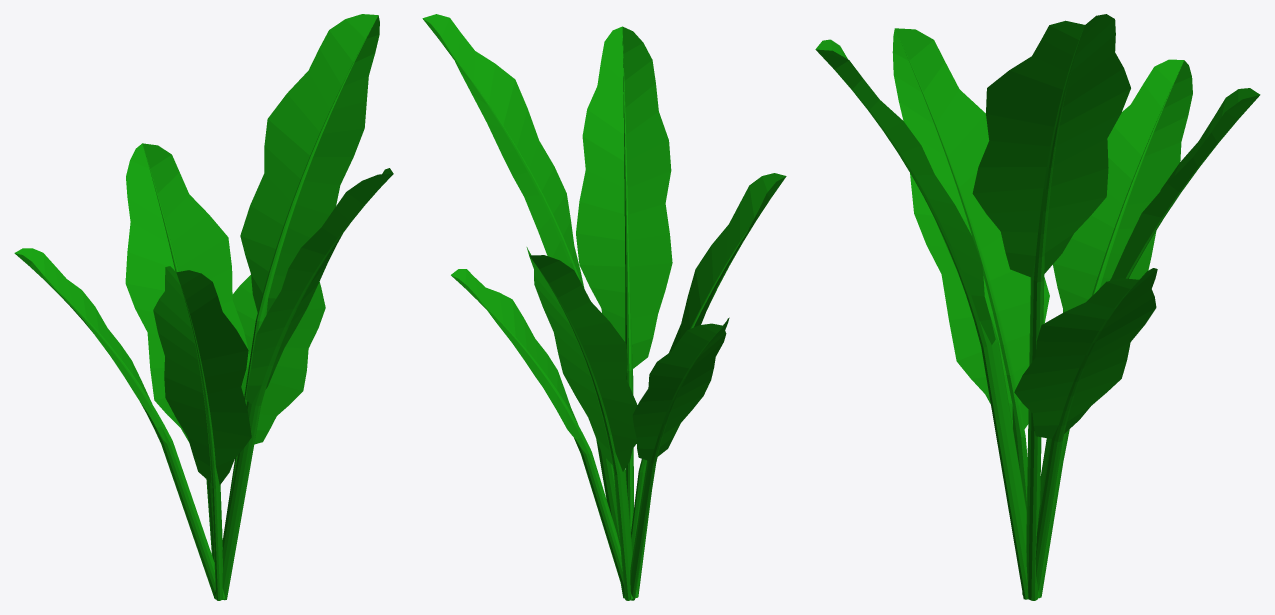
Rendered from Horseradish.fbx.
3 views of the same model, side by side, from view 1: azimuth 30°, elevation 25°; view 2: azimuth 150°, elevation 25°; view 3: azimuth 270°, elevation 25° (orthographic). The views are drawn at different scales.
Parts seen in each view (by area): view 1: Horseradish; view 2: Horseradish; view 3: Horseradish.
Boxes of the visible parts, <box> form: Horseradish: <box>14,14,393,600</box>; Horseradish: <box>422,14,786,600</box>; Horseradish: <box>815,14,1260,600</box>.
Size of the model in its own units: 1.37 by 1.24 by 2.11.
